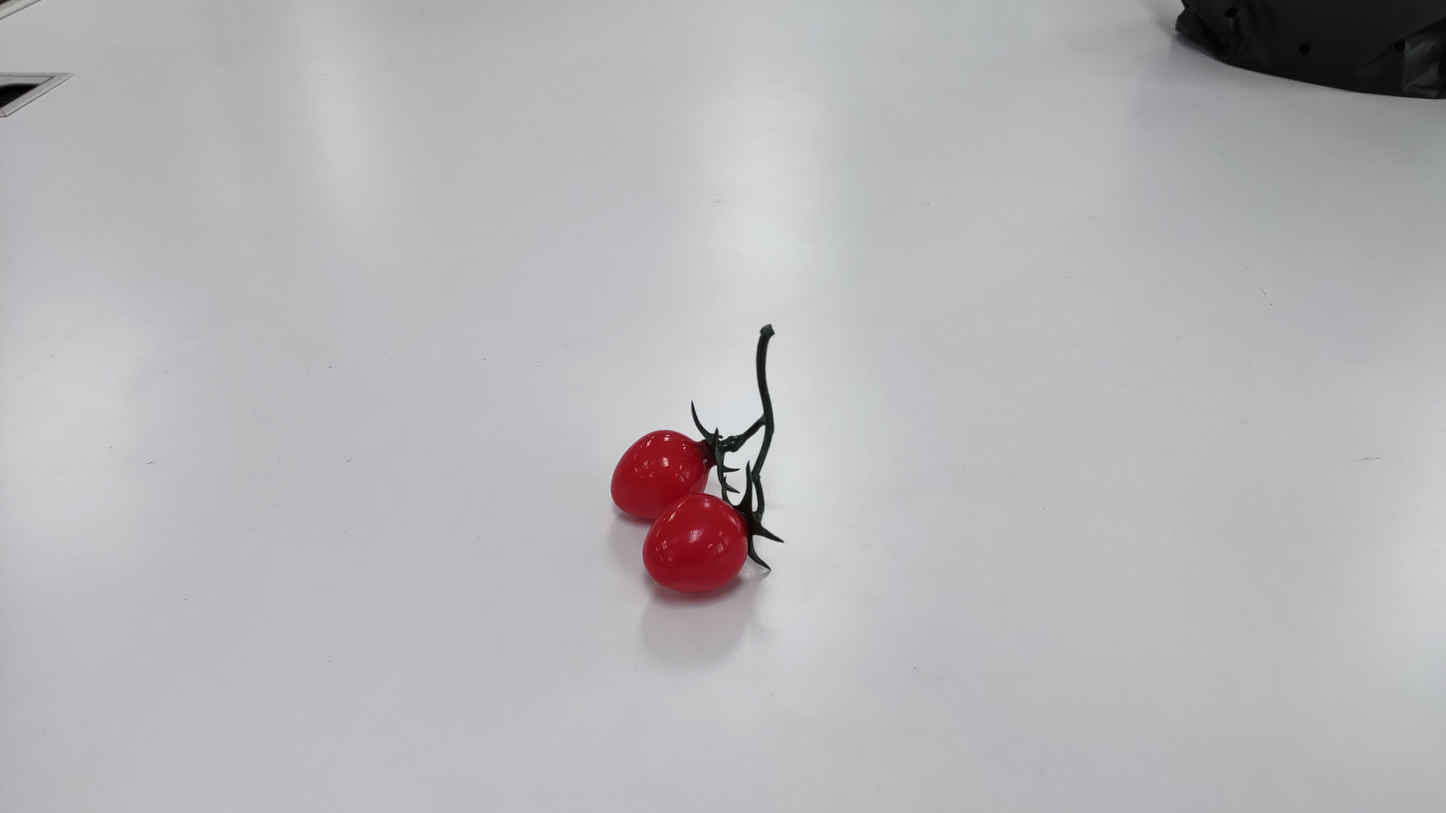peduncle: (756, 335, 773, 412)
strawberry: (642, 492, 748, 592), (611, 430, 714, 519)
